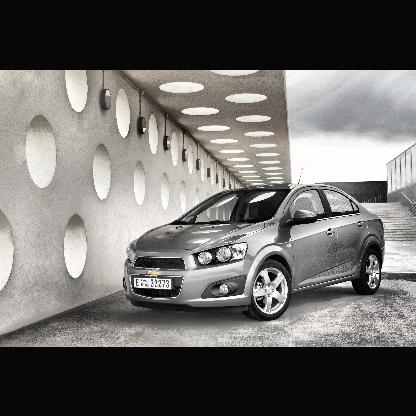Chevrolet Sonic Sedan 2012: (123, 182, 386, 321)
